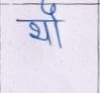ai_matra: (40, 0, 61, 20)
